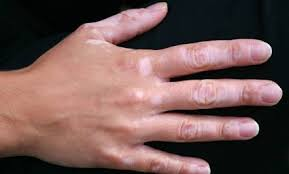vitiligo: (59, 6, 278, 167)
